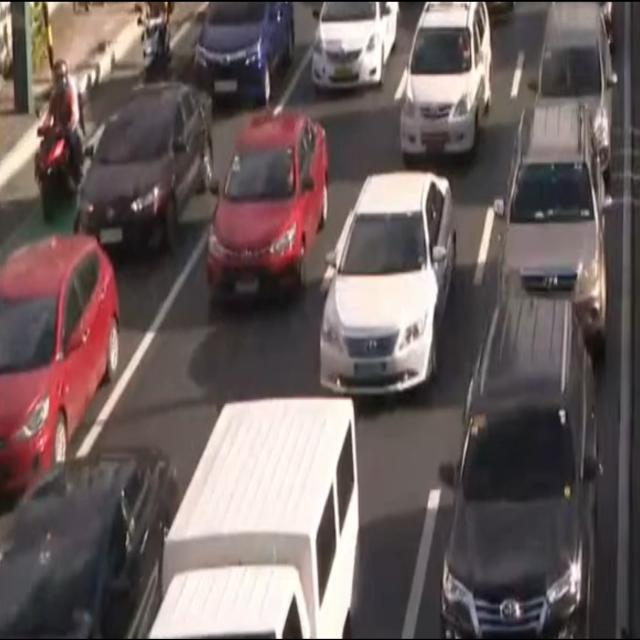Motorcycle: (27, 62, 92, 216), (136, 0, 169, 87)
Pick-up: (144, 401, 358, 640)
SUV: (445, 302, 599, 640), (498, 107, 610, 363), (396, 0, 489, 167), (530, 0, 612, 172)
Sedan: (0, 447, 182, 640), (325, 163, 457, 401), (0, 228, 118, 488), (68, 65, 214, 267), (202, 111, 330, 310), (192, 0, 300, 99), (310, 0, 391, 96)
